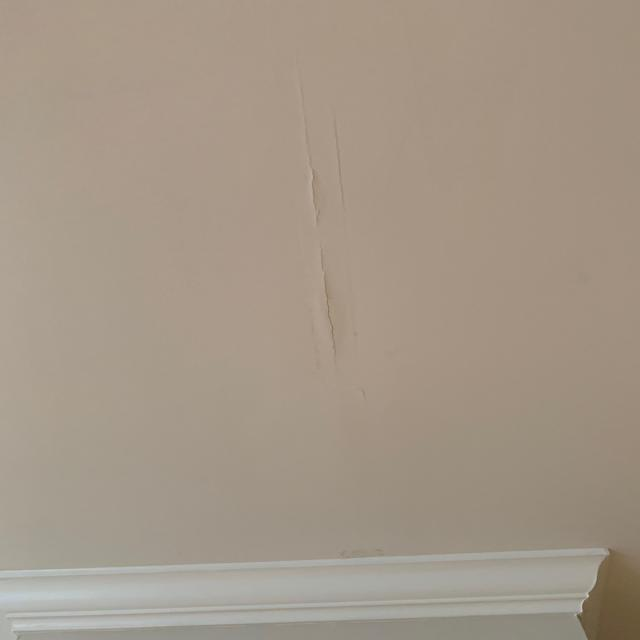leak: (294, 64, 322, 231), (317, 246, 340, 359), (333, 112, 350, 214)
